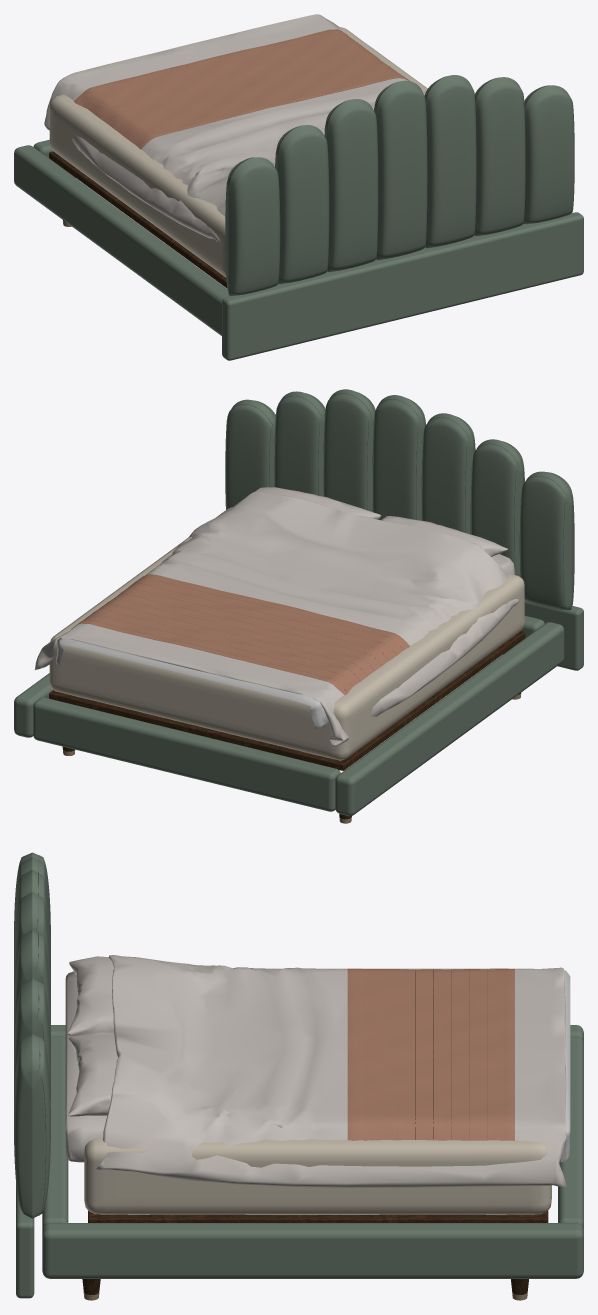
The model's file is atelier-petalled-bed.glb.
3 renders of one model, top to bottom at view 1: azimuth 30°, elevation 25°; view 2: azimuth 150°, elevation 25°; view 3: azimuth 270°, elevation 25°, orthographic. The views are drawn at different scales.
Parts seen in each view (by area): view 1: velvet_surfaces, heritage_linen_surfaces, rust_surfaces, linen_surfaces, walnut_surfaces; view 2: velvet_surfaces, heritage_linen_surfaces, linen_surfaces, rust_surfaces, walnut_surfaces; view 3: heritage_linen_surfaces, velvet_surfaces, rust_surfaces, linen_surfaces, walnut_surfaces.
Part boxes in pixels (box(x1,y1,x2,y2)): velvet_surfaces: box(14, 75, 583, 360); heritage_linen_surfaces: box(44, 14, 425, 242); rust_surfaces: box(74, 29, 409, 149); linen_surfaces: box(49, 27, 427, 277); walnut_surfaces: box(49, 151, 227, 288); velvet_surfaces: box(14, 389, 583, 816); heritage_linen_surfaces: box(35, 487, 519, 747); linen_surfaces: box(49, 507, 524, 760); rust_surfaces: box(71, 574, 409, 695); walnut_surfaces: box(49, 631, 525, 819); heritage_linen_surfaces: box(65, 955, 570, 1188); velvet_surfaces: box(14, 852, 583, 1298); rust_surfaces: box(347, 968, 514, 1140); linen_surfaces: box(84, 968, 551, 1214); walnut_surfaces: box(82, 1211, 548, 1294).
Bounding box in the file's own units: 2.12 × 1.42 × 2.32.
6 materials, 2 textured.
